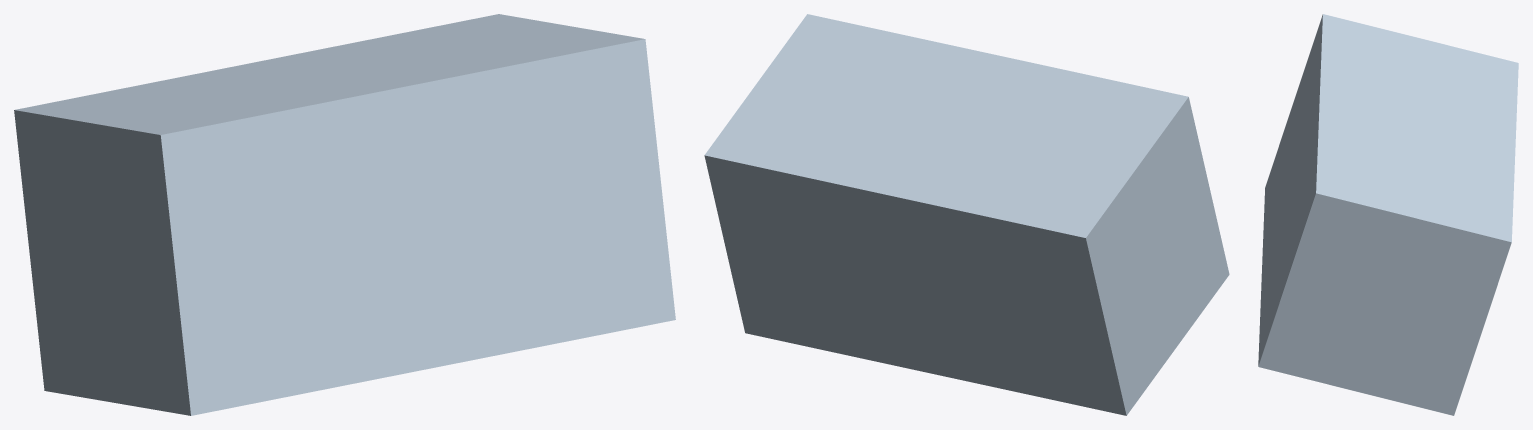
3 views of the same model, side by side, from view 1: azimuth 30°, elevation 25°; view 2: azimuth 150°, elevation 25°; view 3: azimuth 270°, elevation 25° (orthographic). The views are drawn at different scales.
Visible parts, largest first — view 1: block; view 2: block; view 3: block.
Boxes of the visible parts, x1,y1,x2,y2 form: block: [14, 14, 675, 415]; block: [704, 14, 1229, 415]; block: [1258, 14, 1518, 415].
Size of the model in its own units: 0.0805 by 0.0523 by 0.0511.
